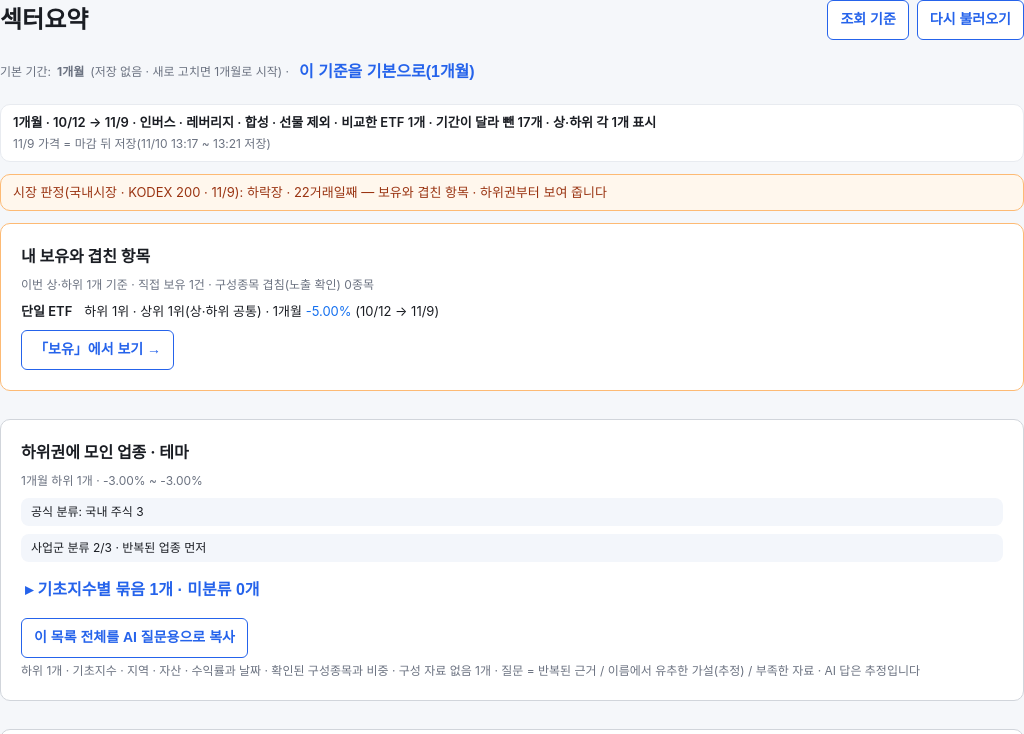
Scenario: 「섹터요약」 첫 화면 › 상·하위에 함께 든 같은 ETF 는 ETF 줄 · 내 보유와 겹친 항목에 공통 표시(검증자 r1 F3)
Expected: the element with test id "ec-card-holdings" shows "하위 1위 · 상위 1위(상·하위 공통)", [0,223,1023,390]
Click the button "▸ 기초지수별 묶음 1개 · 미분류 0개" at (142, 590), box [21,574,264,606]
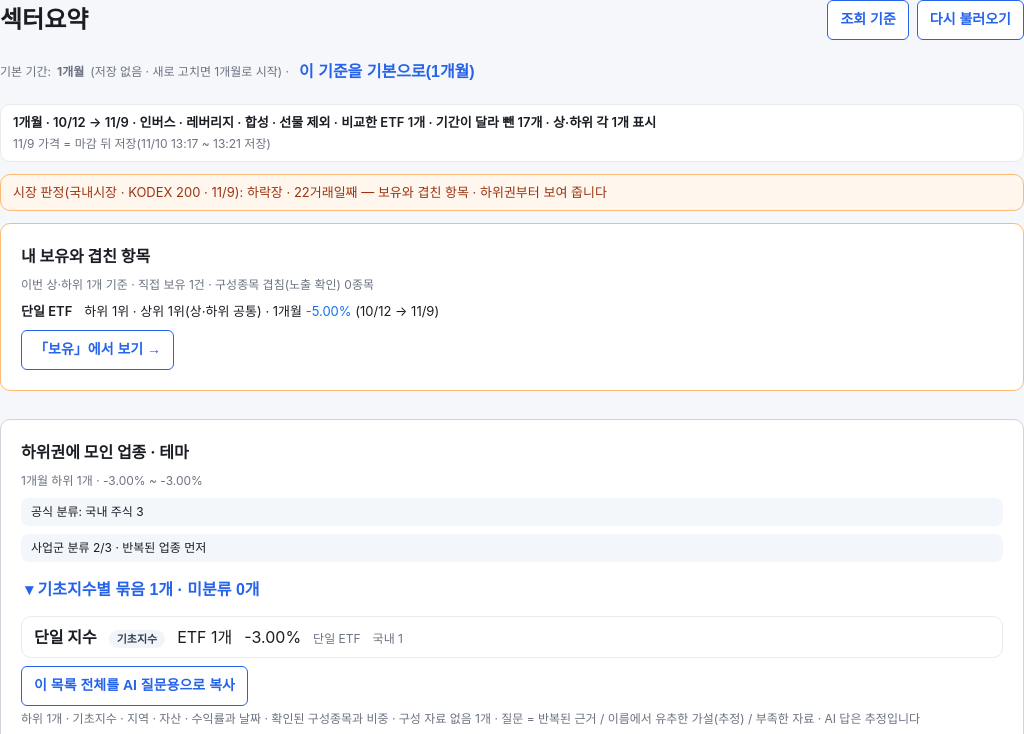
Click the heading "단일 지수 기초지수 ETF 1개 -3.00% 단일 ETF 국내 1" at (218, 637), box [34,626,403,648]
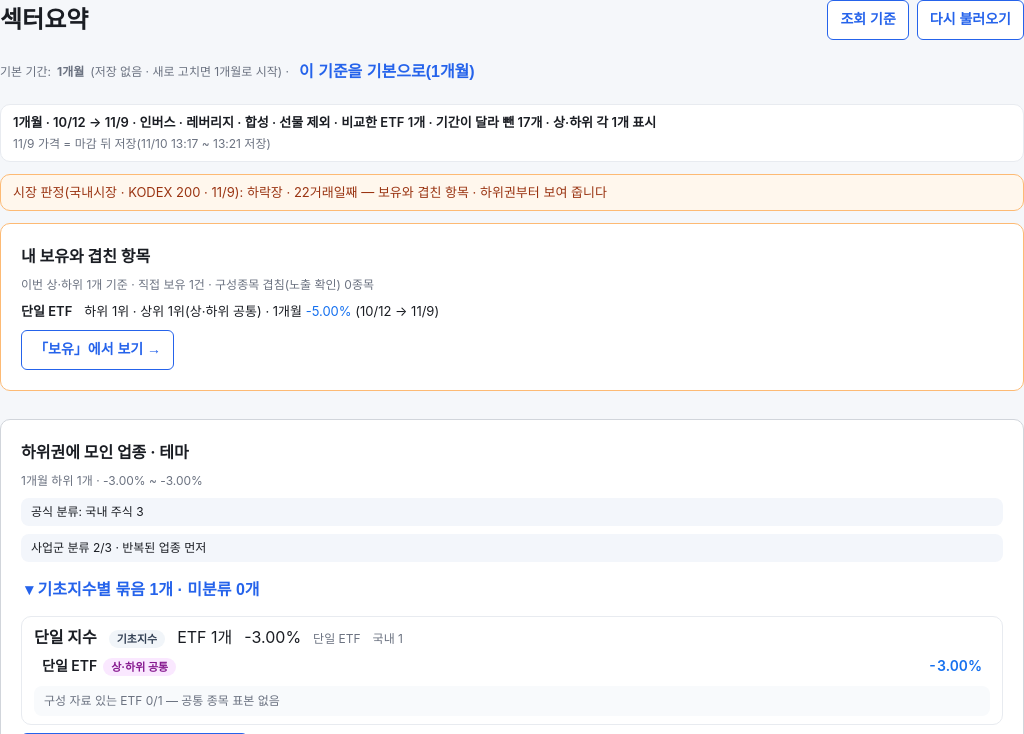
Expected: the button "단일 ETF 상·하위 공통 -3.00%" is shown, [42,656,982,676]
